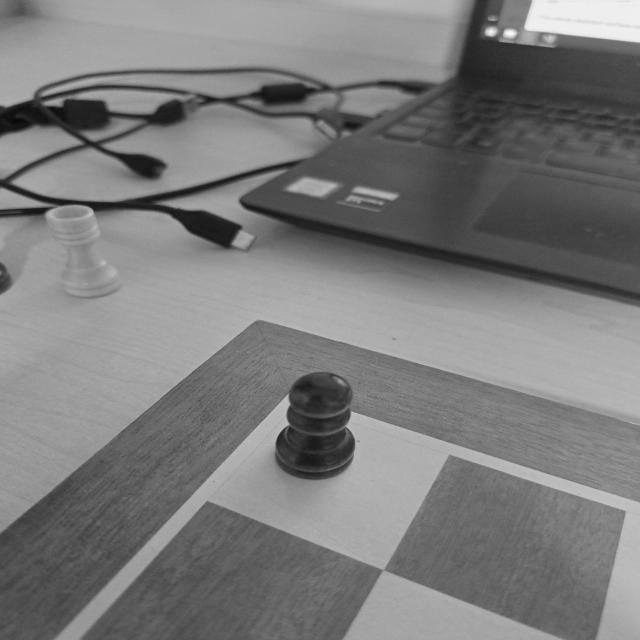chess-table-corners: (230, 378, 366, 437)
